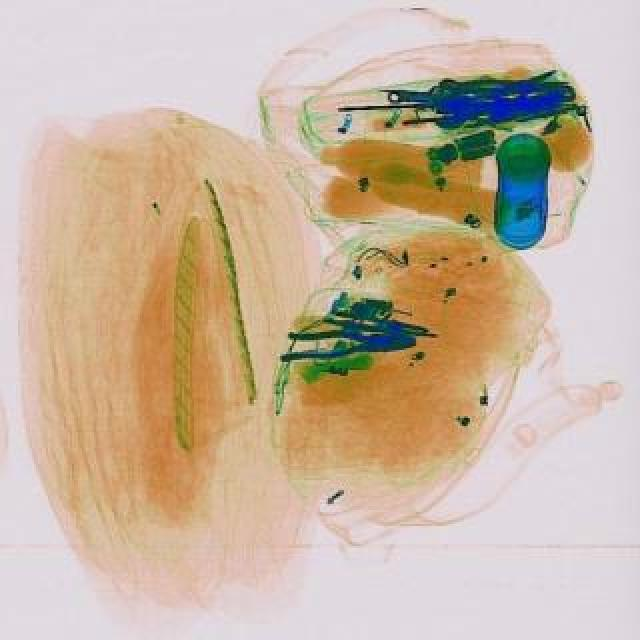scissors: (432, 84, 576, 136)
wrench: (282, 330, 418, 366)
